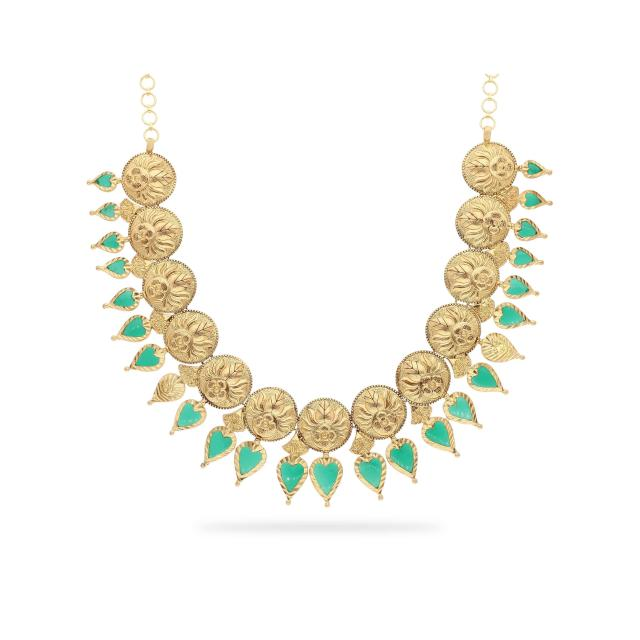missing gem: (486, 337, 515, 355), (156, 377, 181, 397)
